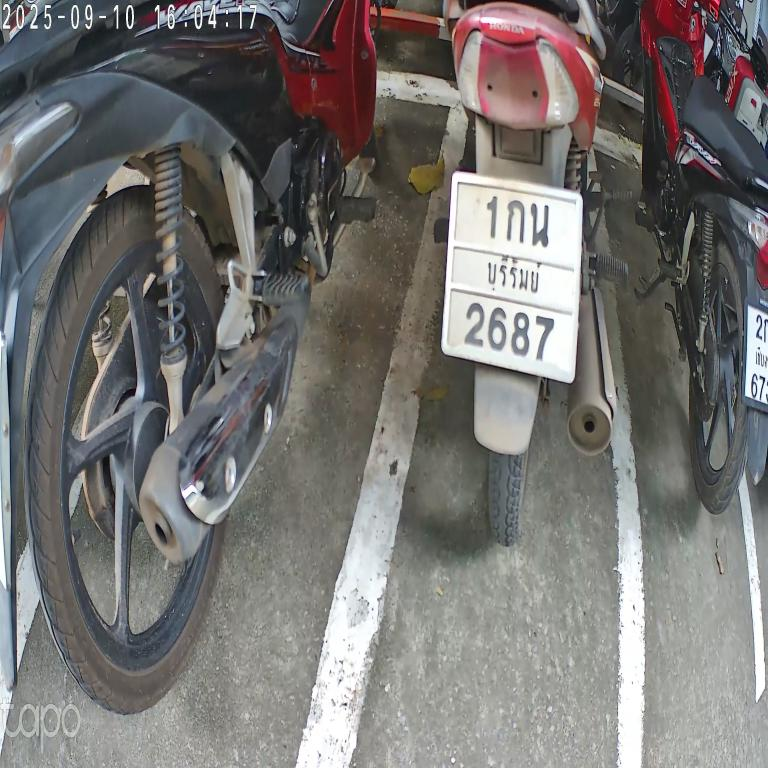license plate: (439, 162, 587, 398), (738, 290, 768, 416)
